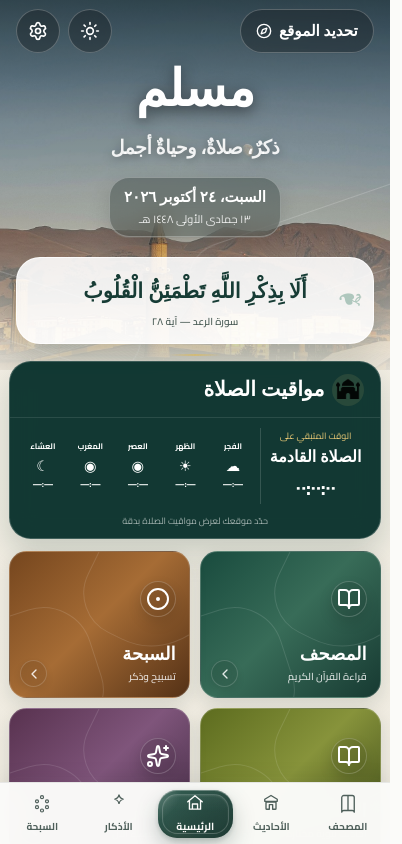
Test: edge cases and failure states › keeps Quran surah search available without ayah search
The width and height of the screenshot is (402, 844).
Check: the text "مسلم" is shown, box 136,61 -> 254,119
Click the button "المصحف" at (348, 813), box 310,789 -> 386,837
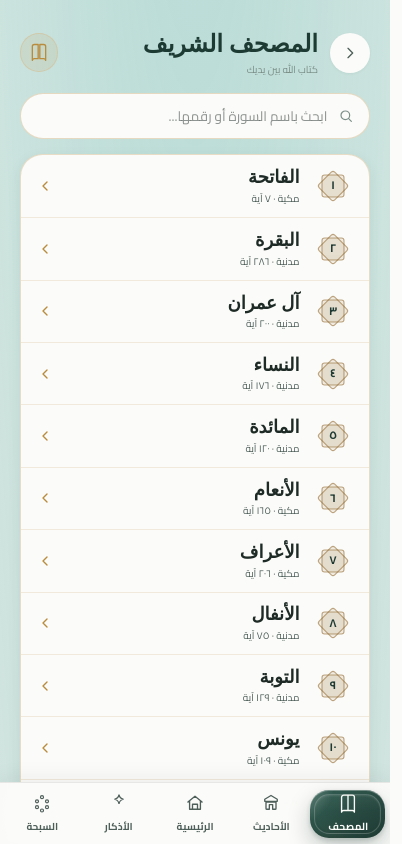
Check: the field with placeholder "ابحث باسم السورة أو رقمها..." is shown, box 20,93 -> 370,139
